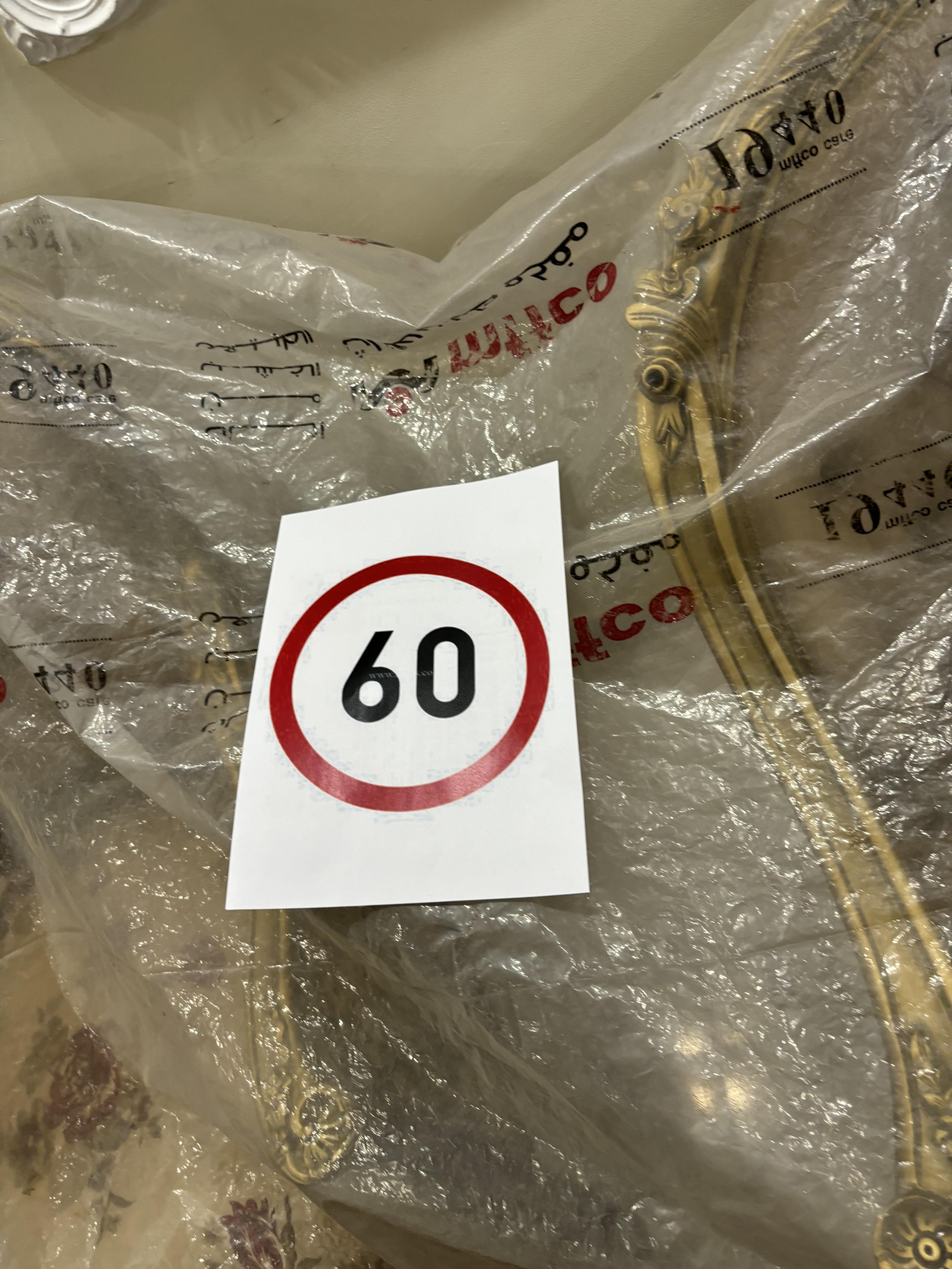60-Speed: (269, 551, 561, 821)
